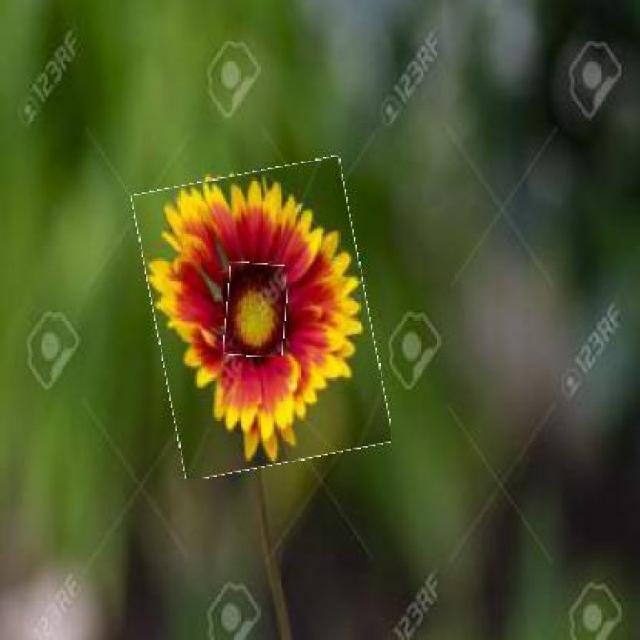Flower: (145, 164, 380, 471), (226, 262, 289, 358)
